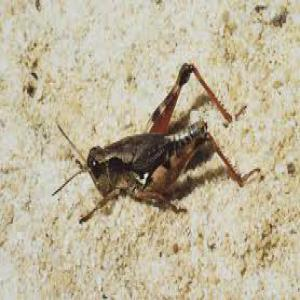locust: (76, 48, 242, 232)
